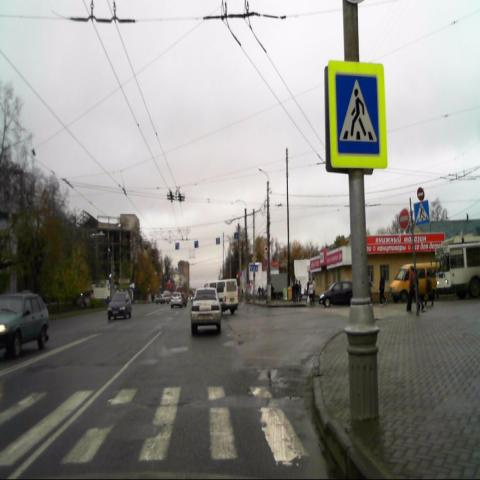3_1: (399, 209, 409, 230)
5_19_1: (329, 60, 388, 168), (414, 199, 430, 226)
